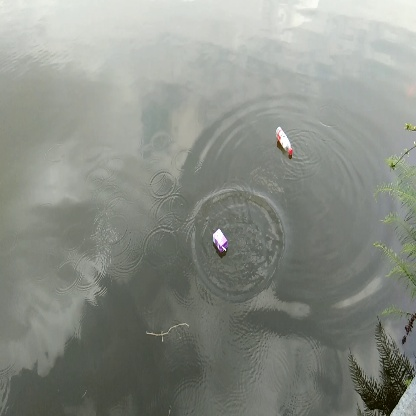bottle: (272, 126, 297, 159)
milk-box: (206, 226, 231, 259)
